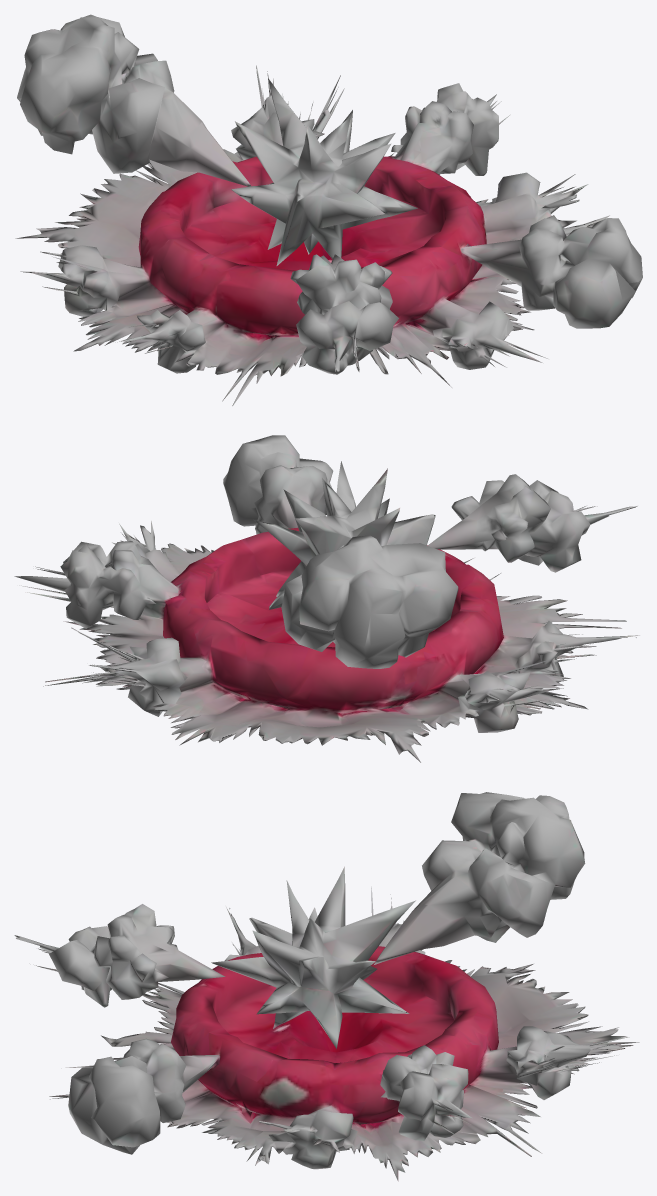
The model's file is rubber_v.glb.
The picture shows the model from 3 angles, top to bottom: view 1: azimuth 30°, elevation 25°; view 2: azimuth 150°, elevation 25°; view 3: azimuth 270°, elevation 25°; orthographic projection. The views are drawn at different scales.
Parts seen in each view (by area): view 1: tripo_node_242969cb-773d-463c-a2db-1696ea6a8767; view 2: tripo_node_242969cb-773d-463c-a2db-1696ea6a8767; view 3: tripo_node_242969cb-773d-463c-a2db-1696ea6a8767.
Boxes of the visible parts, box(x1,y1,x2,y2) form: tripo_node_242969cb-773d-463c-a2db-1696ea6a8767: box(15, 14, 642, 405); tripo_node_242969cb-773d-463c-a2db-1696ea6a8767: box(14, 435, 639, 762); tripo_node_242969cb-773d-463c-a2db-1696ea6a8767: box(14, 792, 639, 1181).
Size of the model in its own units: 0.9163 by 0.4287 by 0.9807.
1 material, 1 textured.
